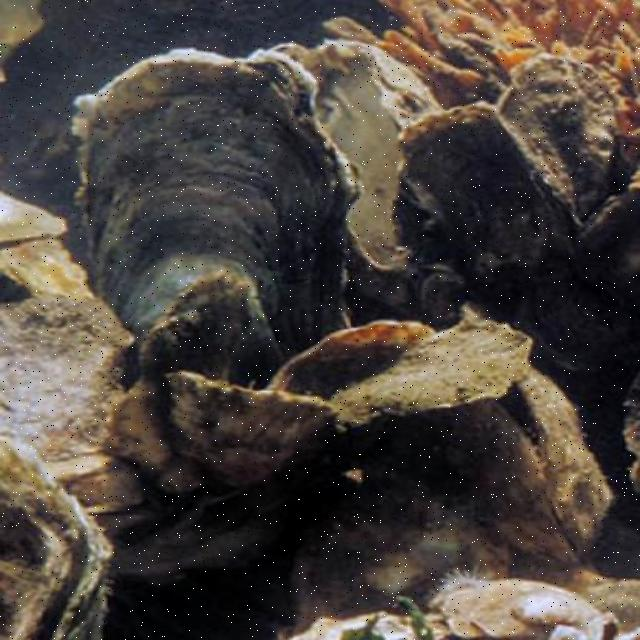Oyster-Closed: (81, 54, 363, 385), (302, 480, 511, 634), (402, 102, 552, 274), (0, 293, 135, 465), (0, 433, 110, 640), (319, 323, 535, 427), (169, 368, 343, 487), (496, 59, 612, 223), (509, 269, 626, 378), (265, 324, 439, 394), (572, 174, 640, 308), (0, 235, 91, 295), (0, 192, 71, 243)
Oyster-Open: (464, 366, 612, 566)
